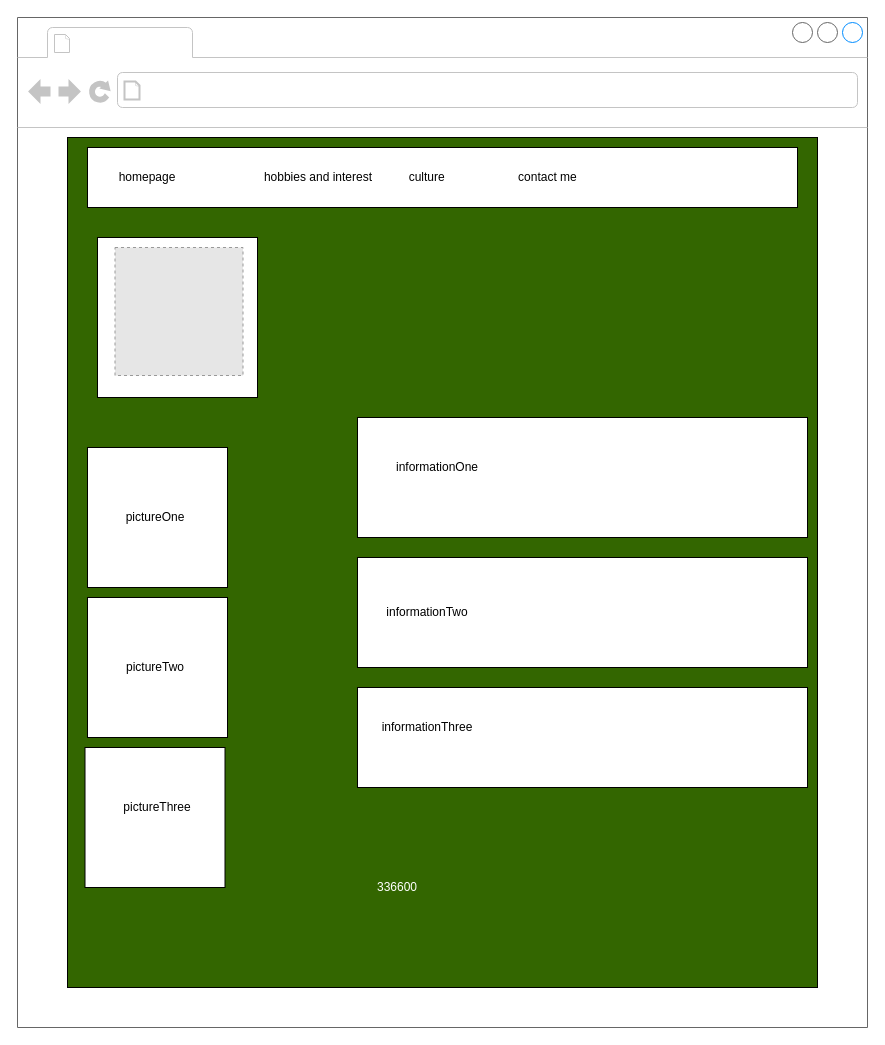
This 885x1045 diagram has some shape labels left out. Grey dashed boxes stand in for pictures. Here are the shapes that lost their labels. From the top down, the box of each, then its label:
(76, 28, 188, 56): Page 1
(146, 76, 398, 104): https://www.draw.io
